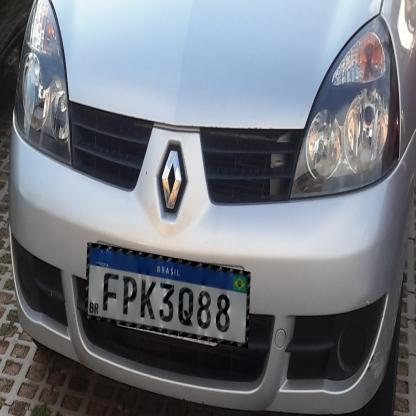PlacaM: (85, 243, 250, 348)
